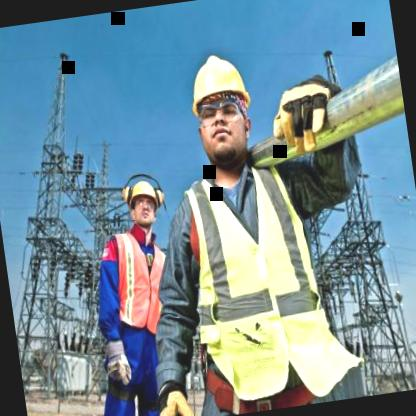helmet: (174, 30, 268, 178), (116, 163, 170, 241)
